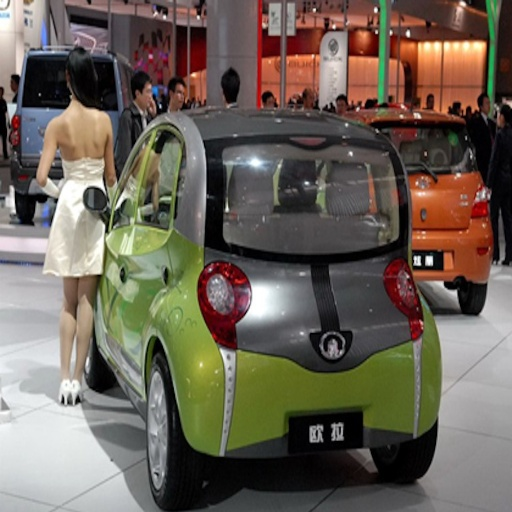back_bumper: (187, 345, 288, 445)
back_glass: (217, 136, 390, 210)
back_left_door: (121, 308, 146, 400)
tailgate: (299, 177, 399, 298)
trunk: (263, 305, 410, 373), (227, 208, 320, 299)
